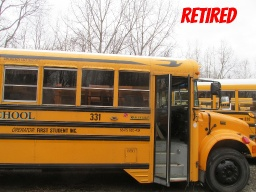bus: (1, 43, 256, 192)
